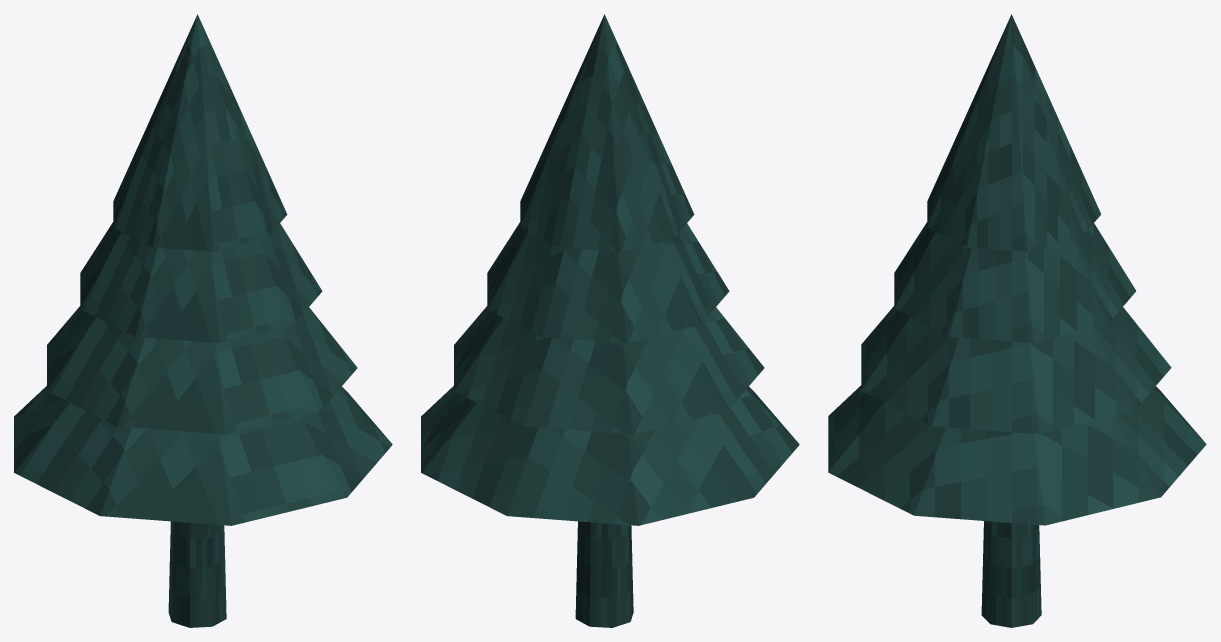
Rendered from pine_03.glb.
The picture shows the model from 3 angles, left to right: view 1: azimuth 30°, elevation 25°; view 2: azimuth 150°, elevation 25°; view 3: azimuth 270°, elevation 25°; orthographic projection.
Parts seen in each view (by area): view 1: Needles, Needles.001, Needles.003, Needles.002, Trunk; view 2: Needles, Needles.001, Needles.003, Needles.002, Trunk; view 3: Needles, Needles.001, Needles.003, Needles.002, Trunk.
Part boxes in pixels (x1,y1,x2,y2): Needles: [14, 386, 392, 525]; Needles.001: [47, 306, 357, 434]; Needles.003: [113, 14, 287, 251]; Needles.002: [80, 222, 322, 343]; Trunk: [168, 521, 226, 627]; Needles: [421, 386, 799, 525]; Needles.001: [454, 306, 764, 434]; Needles.003: [520, 14, 694, 251]; Needles.002: [487, 222, 729, 343]; Trunk: [575, 521, 633, 627]; Needles: [828, 385, 1206, 525]; Needles.001: [861, 306, 1171, 434]; Needles.003: [927, 14, 1101, 251]; Needles.002: [894, 222, 1135, 342]; Trunk: [981, 521, 1041, 627].
Bounding box in the file's own units: 2.56 × 4.42 × 2.52.
1 material, 1 textured.
